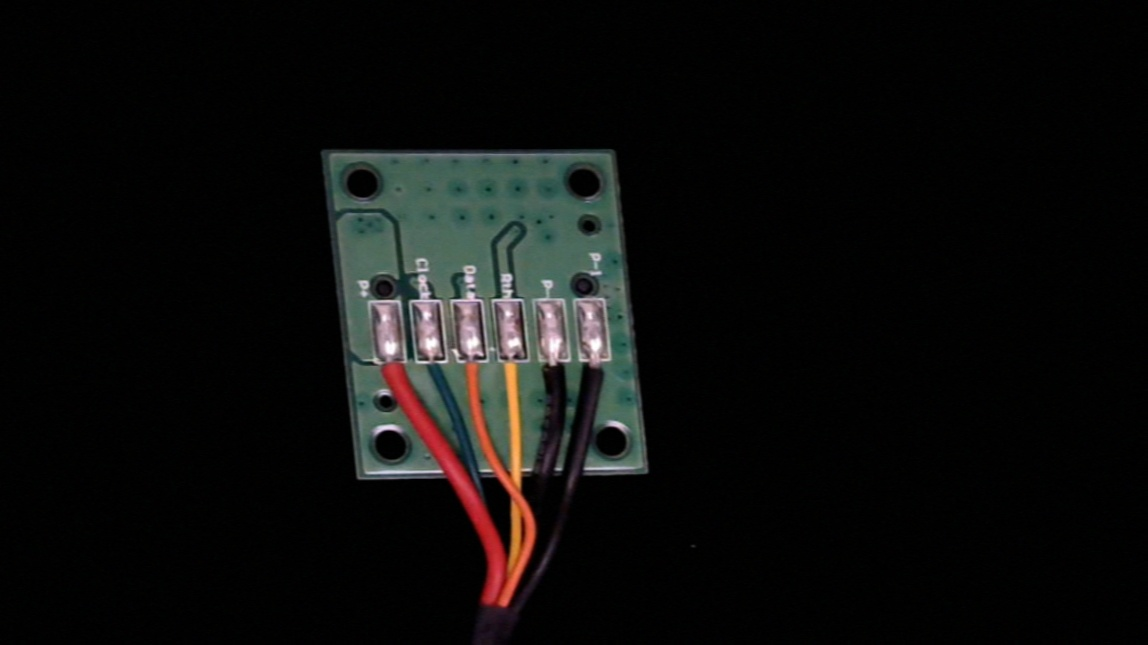Black: (537, 352, 578, 418)
Black1: (580, 350, 619, 412)
Green: (415, 348, 455, 406)
Orange: (455, 349, 495, 418)
Red: (372, 349, 415, 407)
Yellow: (493, 350, 539, 417)
